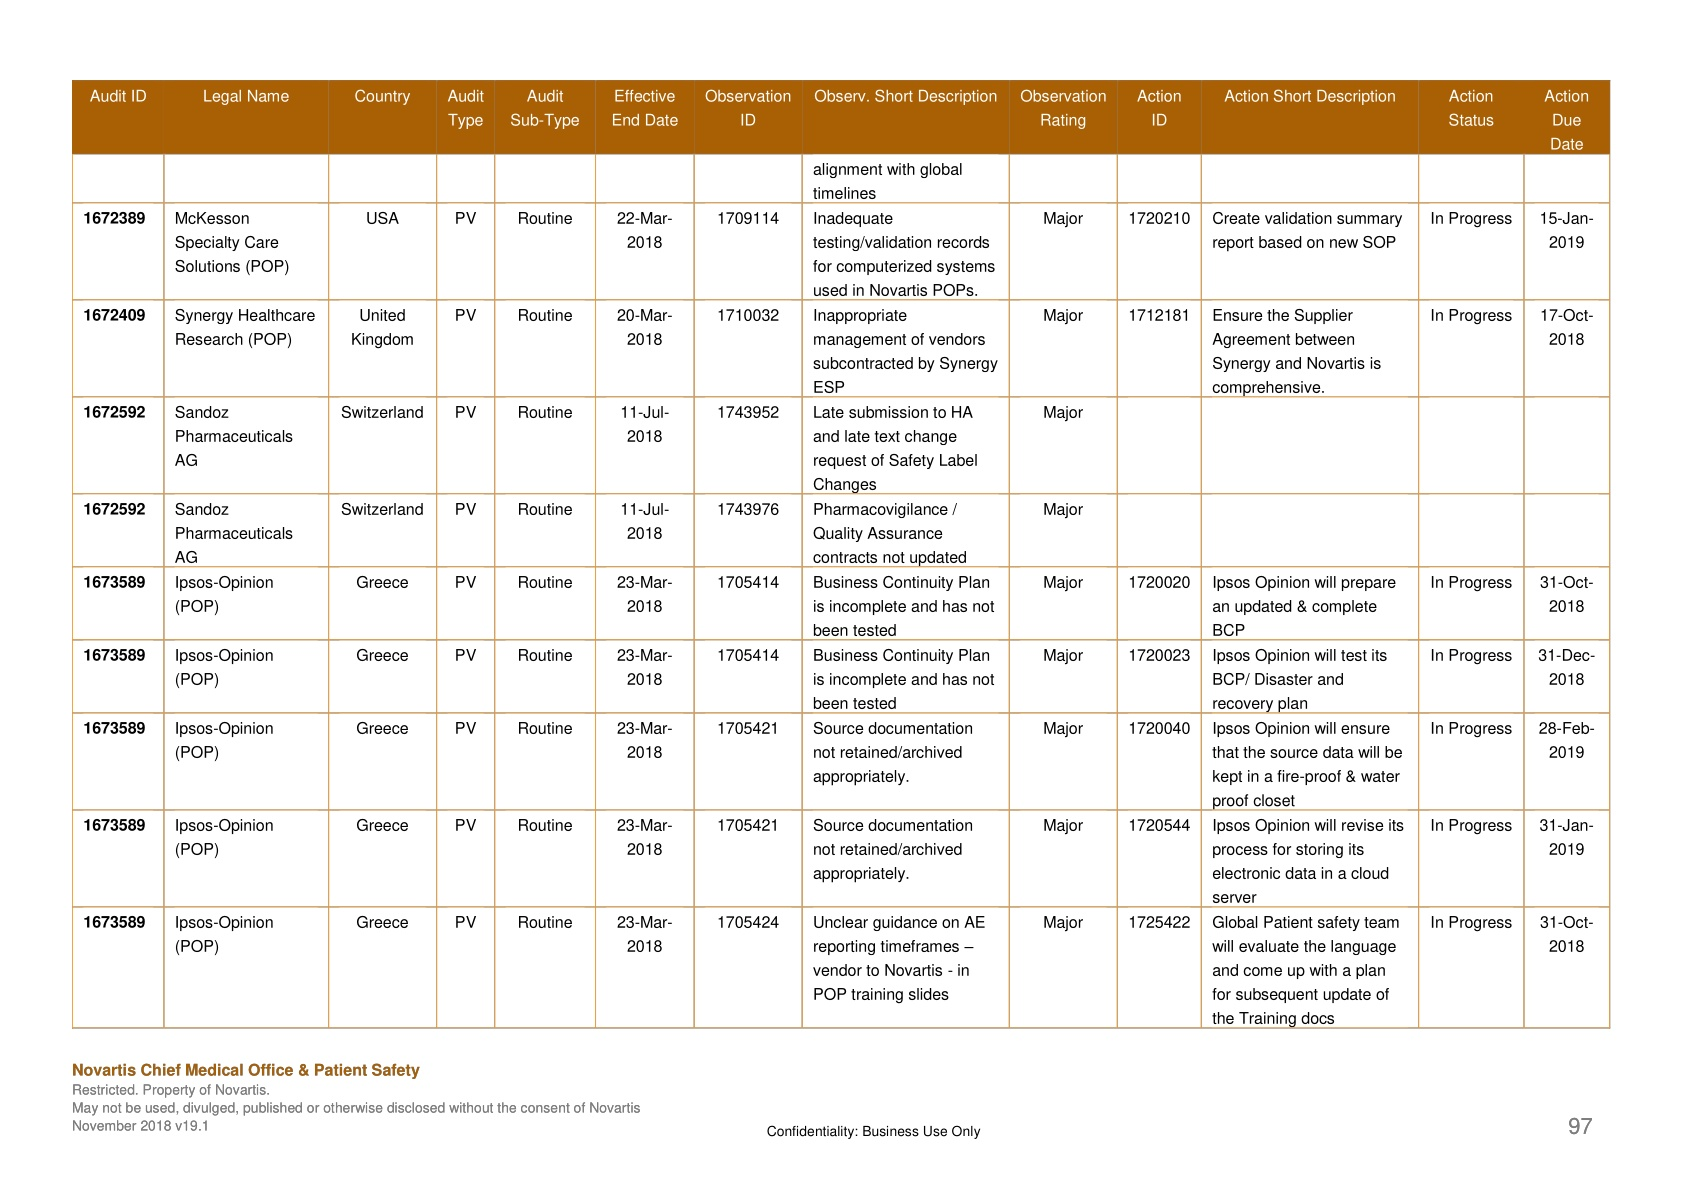full_lined: (71, 79, 1611, 1030)
